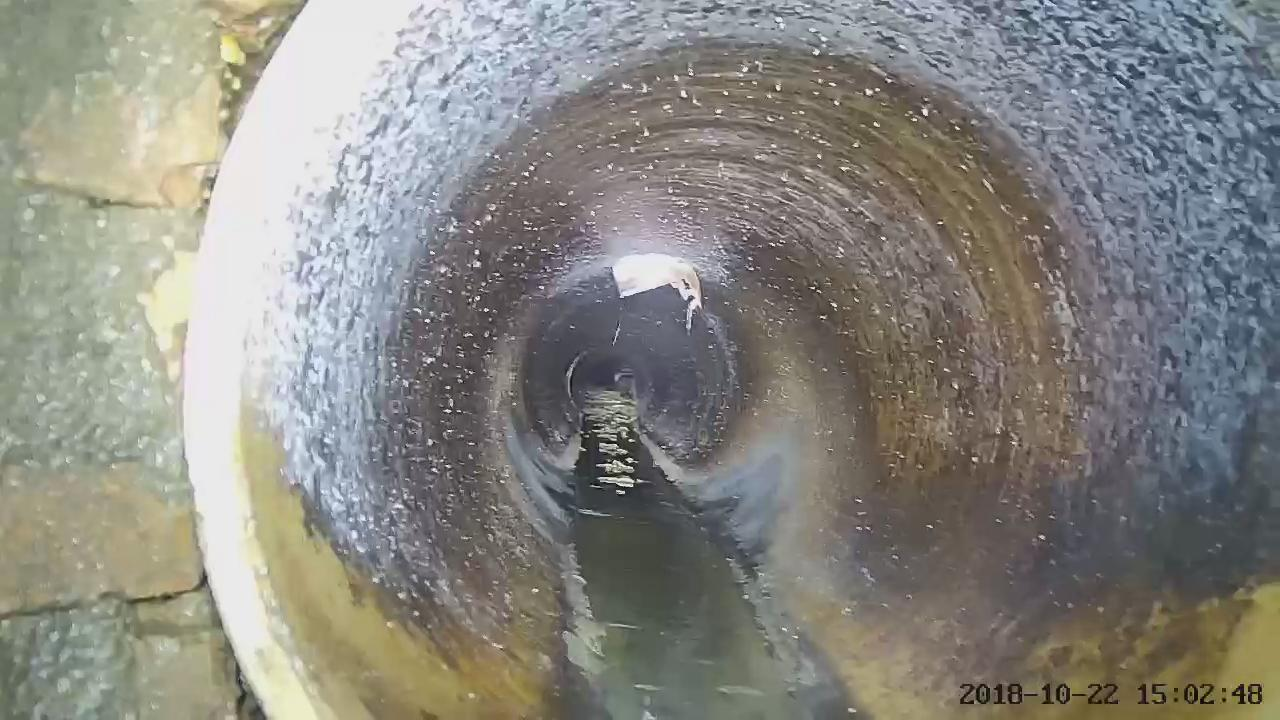CJ: (582, 390, 647, 493)
ZGAJ: (612, 253, 700, 327)
